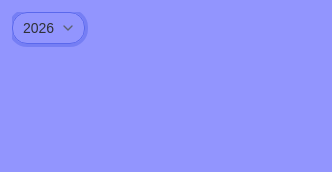
Test: shadcn Select (Base UI) › 옵션을 고르면 onValueChange가 그 값(글자가 아니라 값)으로 호출되고 목록이 닫힌다
Press Enter
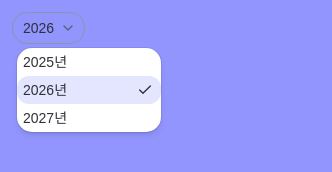
Click the option "2027년".
click(45, 118)  # box [23,110,67,126]
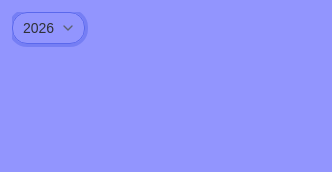
Check: no options are shown
